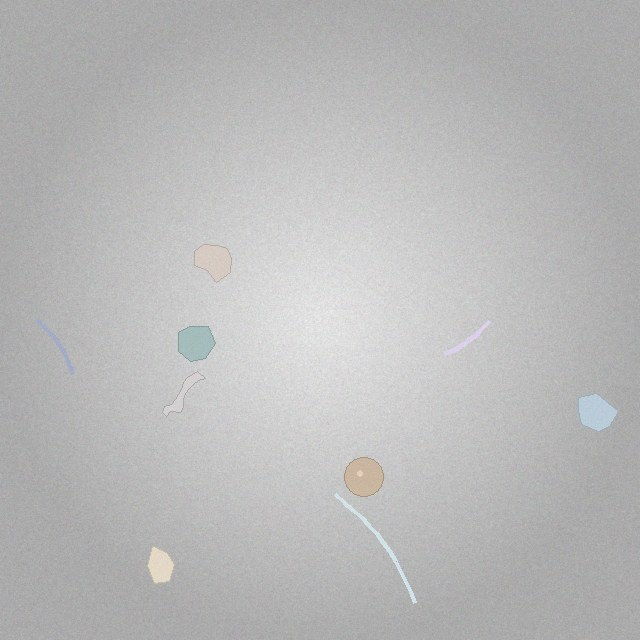fiber: (331, 491, 418, 607), (32, 316, 76, 378), (440, 317, 494, 359)
film: (163, 371, 206, 417)
fragment: (579, 394, 619, 432), (194, 245, 232, 282), (178, 327, 216, 362), (148, 545, 175, 583)
pellet: (345, 458, 383, 496)
